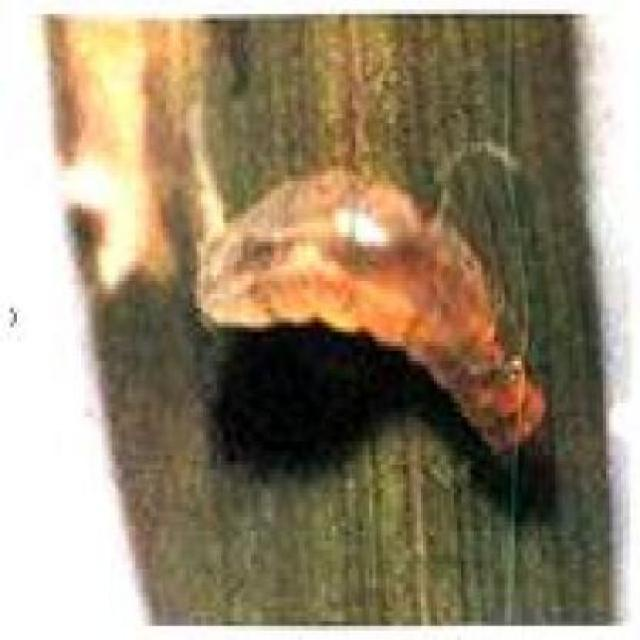whorl-maggot: (194, 159, 547, 473)
